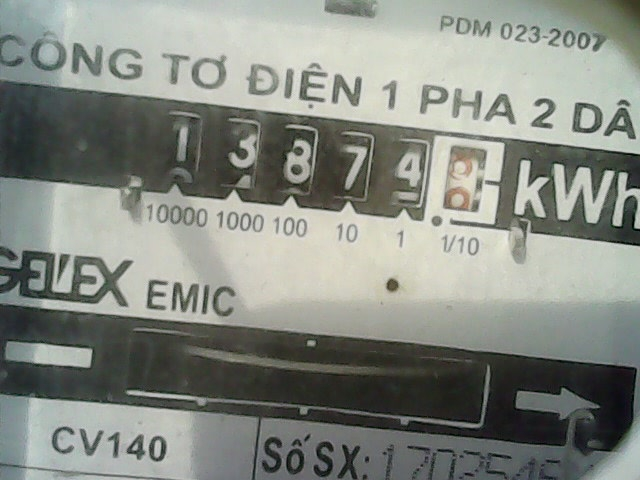phy_plate: (146, 95, 505, 232)
